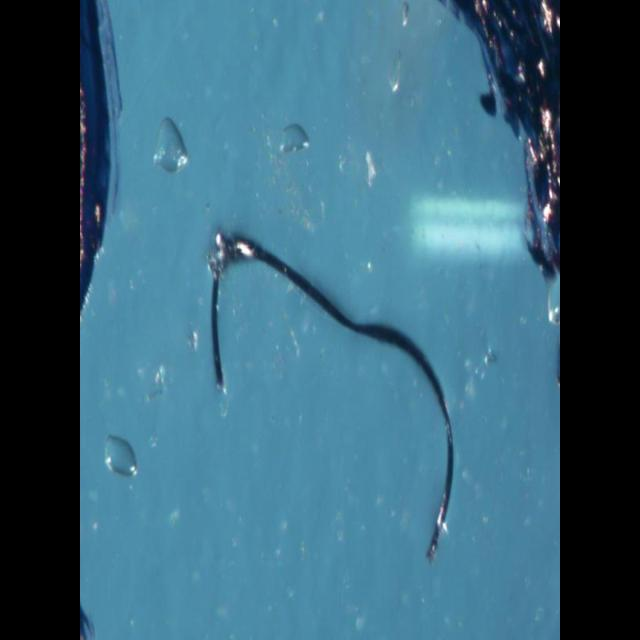Fibre: (206, 226, 454, 562)
